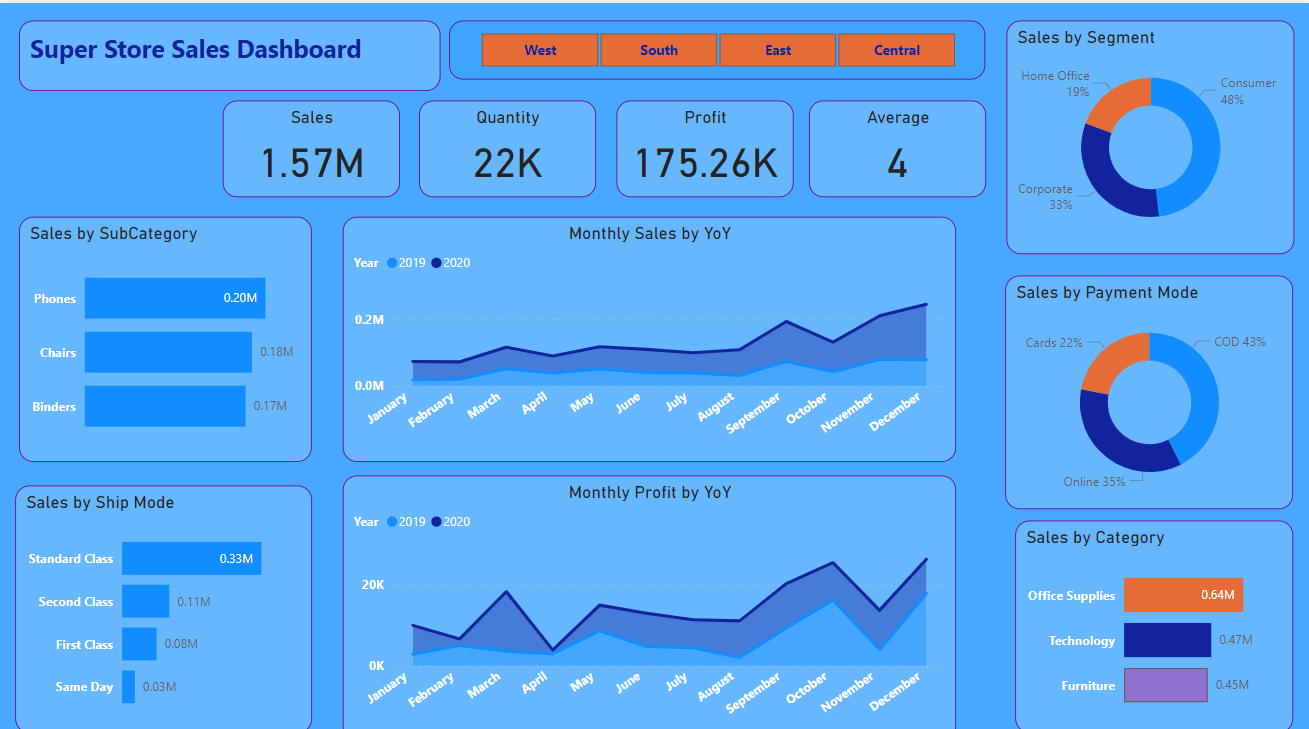

The page's visual inventory and layout, read from the dashboard file:
{"tool":"powerbi","page":{"name":"Page 1","canvas":[1280,720],"ordinal":0},"visuals":[{"type":"clusteredBarChart","title":"Sales by Category","fields":{"Category":["SuperStore_Sales_Dataset.Category"],"Y":["Sum(SuperStore_Sales_Dataset.Sales)"]},"box":[991.7,504.3,271.4,207.5],"z":0},{"type":"clusteredBarChart","title":"Sales by SubCategory","fields":{"Category":["SuperStore_Sales_Dataset.Sub-Category"],"Y":["Sum(SuperStore_Sales_Dataset.Sales)"]},"box":[19.3,208.7,285.9,238.9],"z":1000},{"type":"clusteredBarChart","title":"Sales by Ship Mode","fields":{"Category":["SuperStore_Sales_Dataset.Ship Mode"],"Y":["Sum(SuperStore_Sales_Dataset.Sales)"]},"box":[15.7,470.5,289.5,241.3],"z":2000},{"type":"stackedAreaChart","title":" Monthly Sales by YoY","fields":{"Category":["SuperStore_Sales_Dataset.Order Date.Variation.Date Hierarchy.Month","SuperStore_Sales_Dataset.Order Date.Variation.Date Hierarchy.Day"],"Y":["Sum(SuperStore_Sales_Dataset.Sales)"],"Series":["SuperStore_Sales_Dataset.Order Date.Variation.Date Hierarchy.Year"]},"box":[335.4,208.7,598.4,238.9],"z":3000},{"type":"stackedAreaChart","title":" Monthly Profit by YoY","fields":{"Category":["SuperStore_Sales_Dataset.Order Date.Variation.Date Hierarchy.Month","SuperStore_Sales_Dataset.Order Date.Variation.Date Hierarchy.Day"],"Series":["SuperStore_Sales_Dataset.Order Date.Variation.Date Hierarchy.Year"],"Y":["Sum(SuperStore_Sales_Dataset.Profit)"]},"box":[335.4,460.9,598.4,259.4],"z":4000},{"type":"donutChart","title":" Sales by Segment","fields":{"Category":["SuperStore_Sales_Dataset.Segment"],"Y":["Sum(SuperStore_Sales_Dataset.Sales)"]},"box":[983.2,16.9,281.1,228],"z":5000},{"type":"donutChart","title":"Sales by Payment Mode","fields":{"Category":["SuperStore_Sales_Dataset.Payment Mode"],"Y":["Sum(SuperStore_Sales_Dataset.Sales)"]},"box":[982,265.4,281.1,228],"z":6000},{"type":"slicer","fields":{"Values":["SuperStore_Sales_Dataset.Region"]},"box":[439.1,16.9,523.6,57.9],"z":7000},{"type":"textbox","box":[19.3,16.9,411.4,68.8],"z":8000},{"type":"card","title":"Sales","fields":{"Values":["Sum(SuperStore_Sales_Dataset.Sales)"]},"box":[218.4,95.3,172.5,94.1],"z":9000},{"type":"card","title":"Quantity","fields":{"Values":["Sum(SuperStore_Sales_Dataset.Quantity)"]},"box":[410.2,95.3,172.5,94.1],"z":10000},{"type":"card","title":"Profit","fields":{"Values":["Sum(SuperStore_Sales_Dataset.Profit)"]},"box":[602,95.3,172.5,94.1],"z":11000},{"type":"card","title":"Average","fields":{"Values":["Avg(SuperStore_Sales_Dataset.Average Delivery)"]},"box":[790.2,95.3,172.5,94.1],"z":12000}]}

Visuals, with their boxes in screenshot pixels (x1, y1, x2, y2), scaled from the page's 1280x720 canvas onto the 1309x729 screenshot:
"Sales by Category" clusteredBarChart: crop(1014, 511, 1292, 721)
"Sales by SubCategory" clusteredBarChart: crop(20, 211, 312, 453)
"Sales by Ship Mode" clusteredBarChart: crop(16, 476, 312, 721)
" Monthly Sales by YoY" stackedAreaChart: crop(343, 211, 955, 453)
" Monthly Profit by YoY" stackedAreaChart: crop(343, 467, 955, 728)
" Sales by Segment" donutChart: crop(1005, 17, 1293, 248)
"Sales by Payment Mode" donutChart: crop(1004, 269, 1292, 500)
slicer - SuperStore_Sales_Dataset.Region: crop(449, 17, 985, 76)
textbox: crop(20, 17, 440, 87)
"Sales" card: crop(223, 96, 400, 192)
"Quantity" card: crop(419, 96, 596, 192)
"Profit" card: crop(616, 96, 792, 192)
"Average" card: crop(808, 96, 985, 192)
